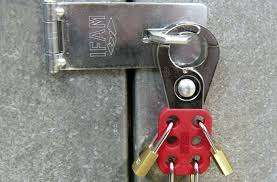hasp: (158, 22, 220, 174)
lock: (130, 117, 175, 178), (194, 119, 234, 180), (163, 160, 180, 182), (188, 159, 200, 182)
